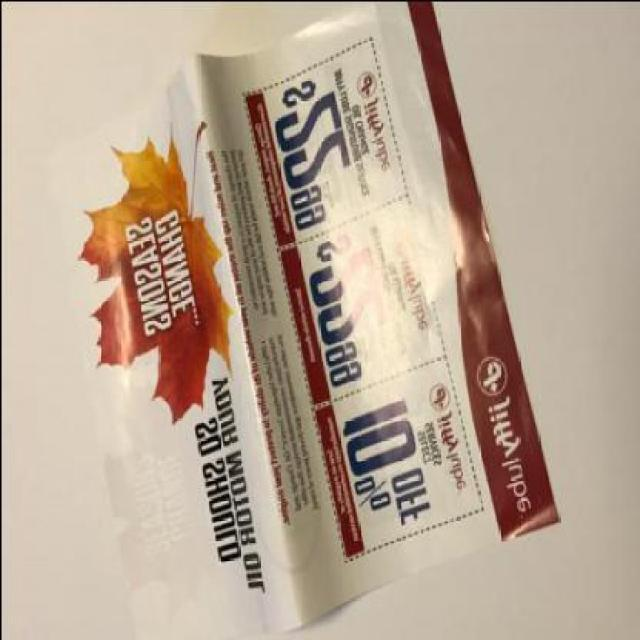cups: (164, 2, 559, 634)
